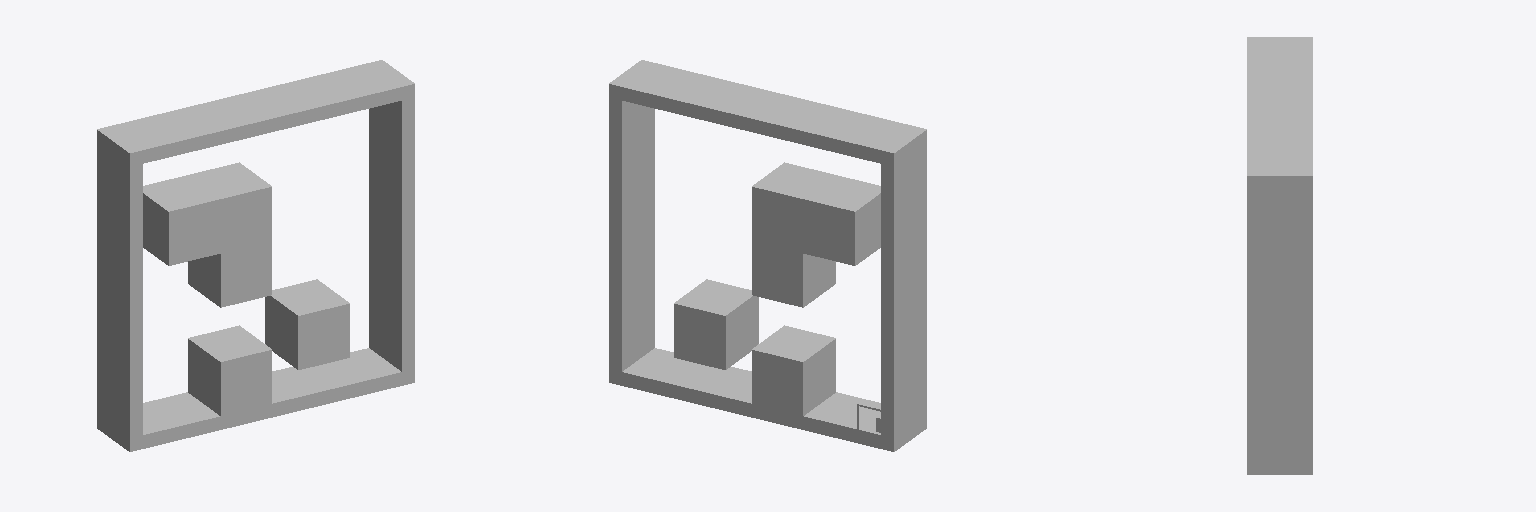
The model's file is Room33.obj.
3 views of the same model, side by side, from view 1: azimuth 30°, elevation 25°; view 2: azimuth 150°, elevation 25°; view 3: azimuth 270°, elevation 25° (orthographic).
Visible parts, largest first — view 1: Curve.002_mesh_Curve.002; view 2: Curve.002_mesh_Curve.002; view 3: Curve.002_mesh_Curve.002.
Part boxes in pixels (left/top/right/bottom): Curve.002_mesh_Curve.002: left=97, top=60, right=414, bottom=451; Curve.002_mesh_Curve.002: left=609, top=60, right=926, bottom=451; Curve.002_mesh_Curve.002: left=1247, top=37, right=1312, bottom=474.
Size of the model in its own units: 1 by 1 by 0.2.